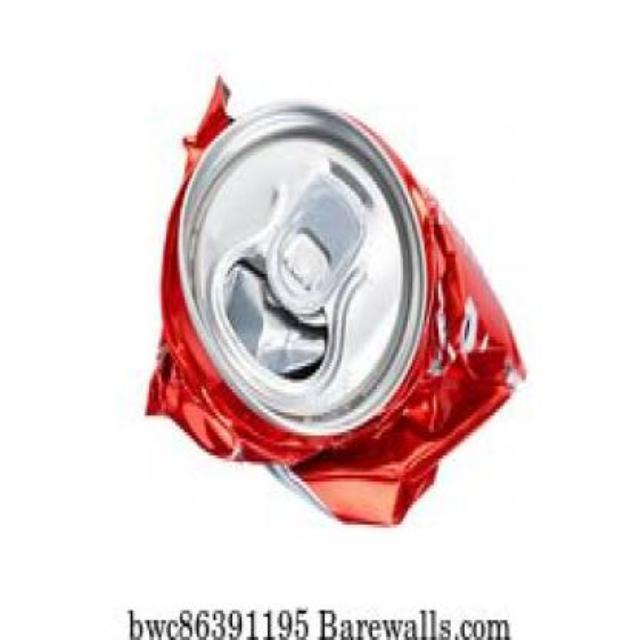metal: (146, 78, 522, 522)
